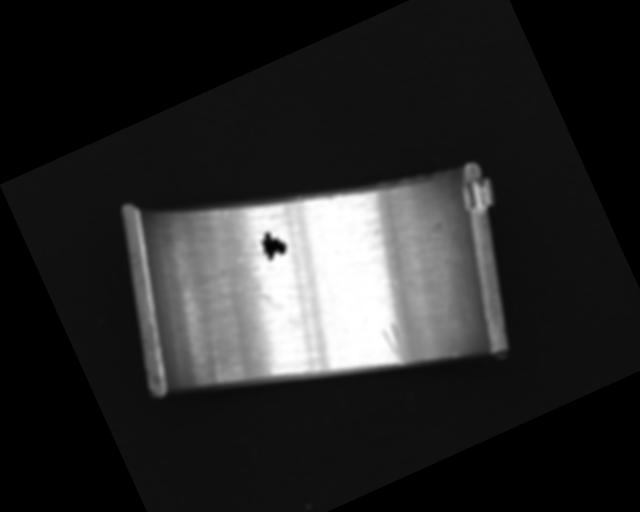blot: (254, 225, 291, 264)
nick: (379, 321, 413, 368), (450, 343, 462, 359)
